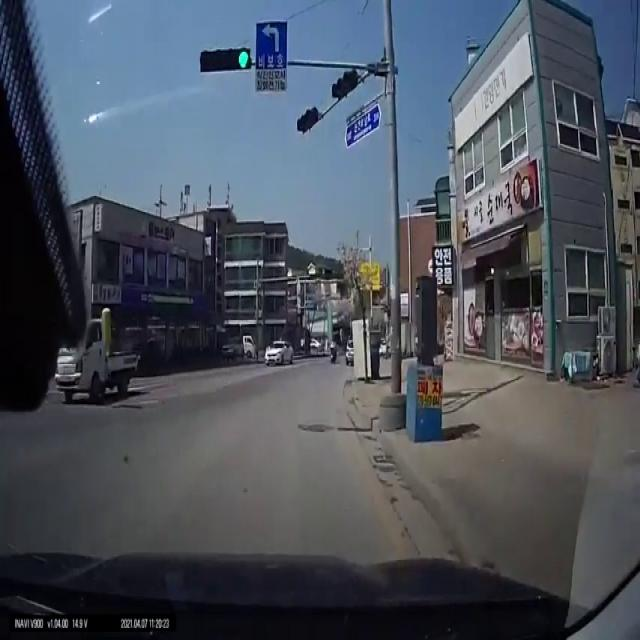Pothole: (304, 420, 336, 436)
